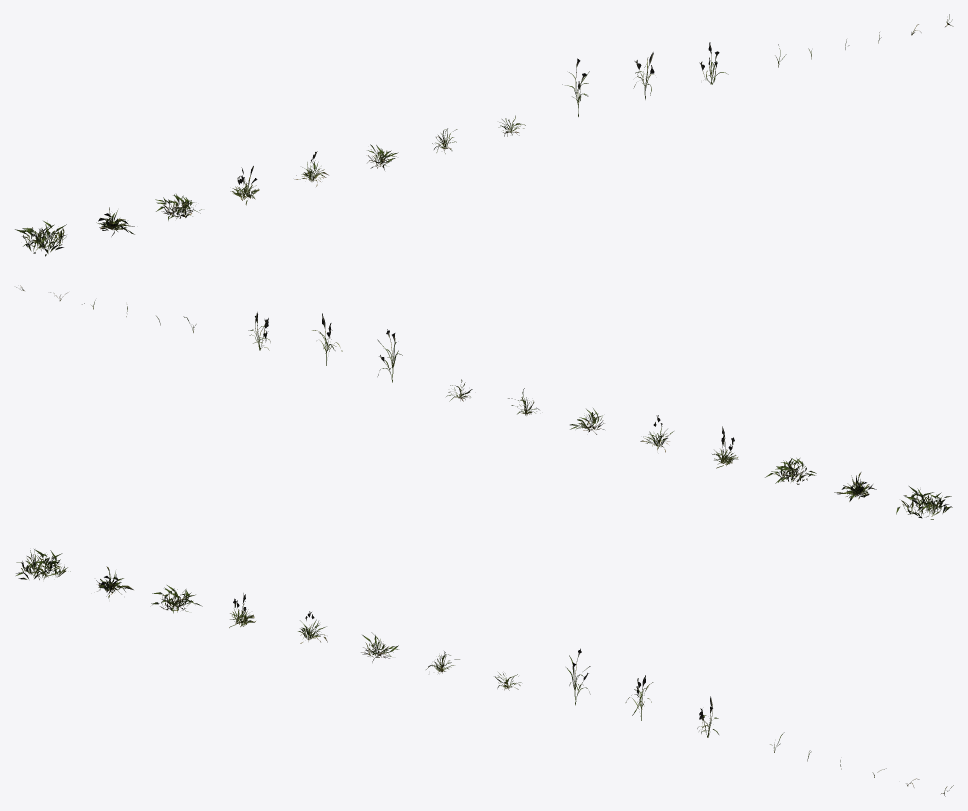
File: grass_far_lod.glb
3 renders of one model, top to bottom at view 1: azimuth 30°, elevation 25°; view 2: azimuth 150°, elevation 25°; view 3: azimuth 330°, elevation 25°, orthographic.
Parts seen in each view (by area): view 1: grass_medium_01_large_a_LOD0, grass_medium_01_large_c_LOD0; view 2: grass_medium_01_large_a_LOD0, grass_medium_01_large_c_LOD0; view 3: grass_medium_01_large_a_LOD0.
Part boxes in pixels (<box>): grass_medium_01_large_a_LOD0: <box>15,221,66,256</box>; grass_medium_01_large_c_LOD0: <box>155,194,201,220</box>; grass_medium_01_large_a_LOD0: <box>896,486,952,519</box>; grass_medium_01_large_c_LOD0: <box>765,458,816,484</box>; grass_medium_01_large_a_LOD0: <box>16,549,70,579</box>.
Size of the model in its own units: 5.61 by 0.3382 by 0.3061.
1 material, 1 textured.
